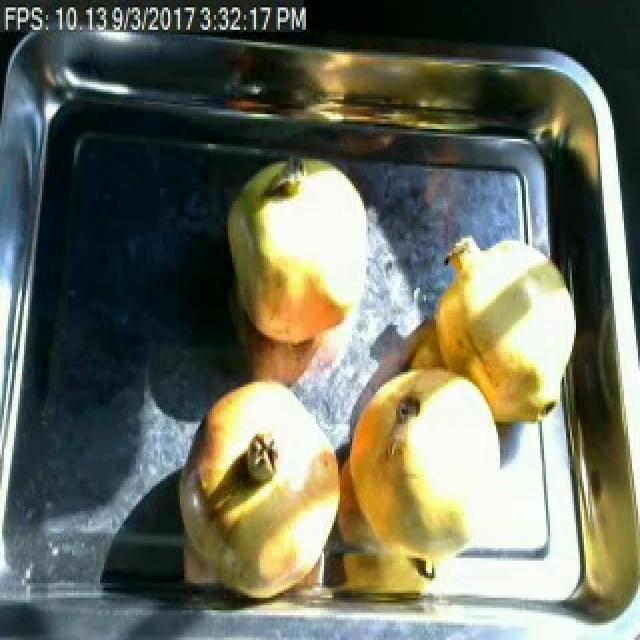fruit: (338, 347, 516, 598), (170, 367, 350, 605), (420, 230, 582, 442), (222, 146, 378, 362)
